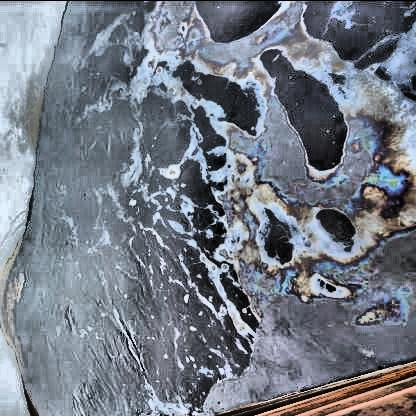sheen: (147, 2, 416, 412)
